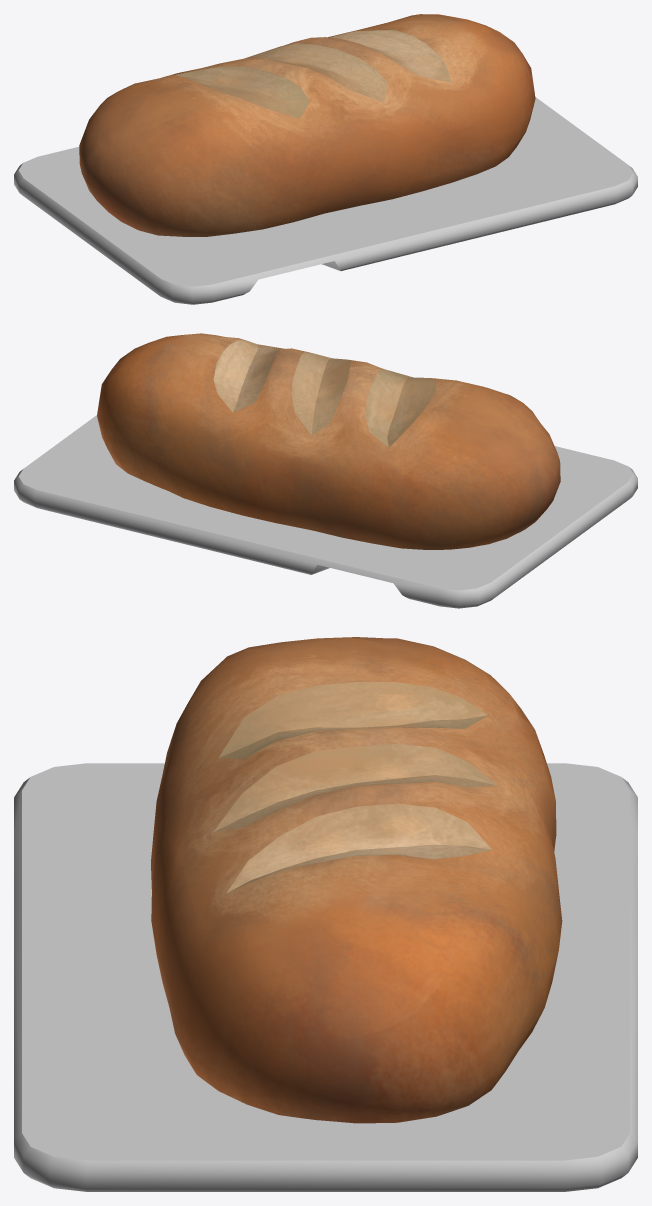
File: bread.fbx
3 views of the same model, one above another, from view 1: azimuth 30°, elevation 25°; view 2: azimuth 150°, elevation 25°; view 3: azimuth 270°, elevation 25° (orthographic). The views are drawn at different scales.
Visible parts, largest first — view 1: bread, Plane; view 2: bread, Plane; view 3: bread, Plane.
Boxes of the visible parts, box(x1,y1,x2,y2) form: bread: box(79, 14, 535, 236); Plane: box(14, 97, 637, 304); bread: box(97, 333, 560, 549); Plane: box(14, 415, 637, 608); bread: box(151, 637, 562, 1123); Plane: box(14, 763, 637, 1191).
Size of the model in its own units: 305 by 80.92 by 199.
